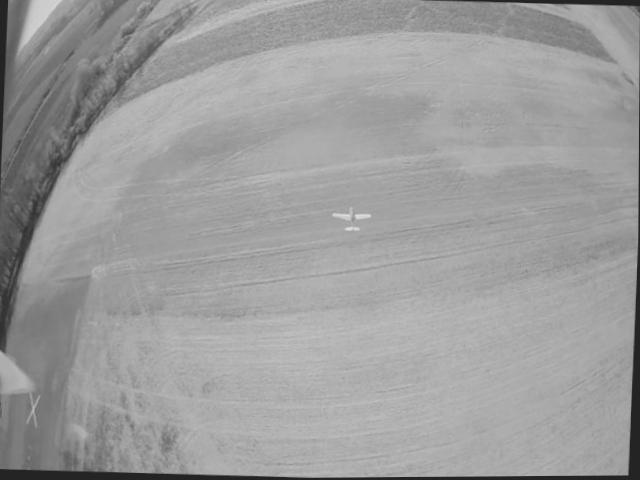hedef: (315, 192, 381, 248)
